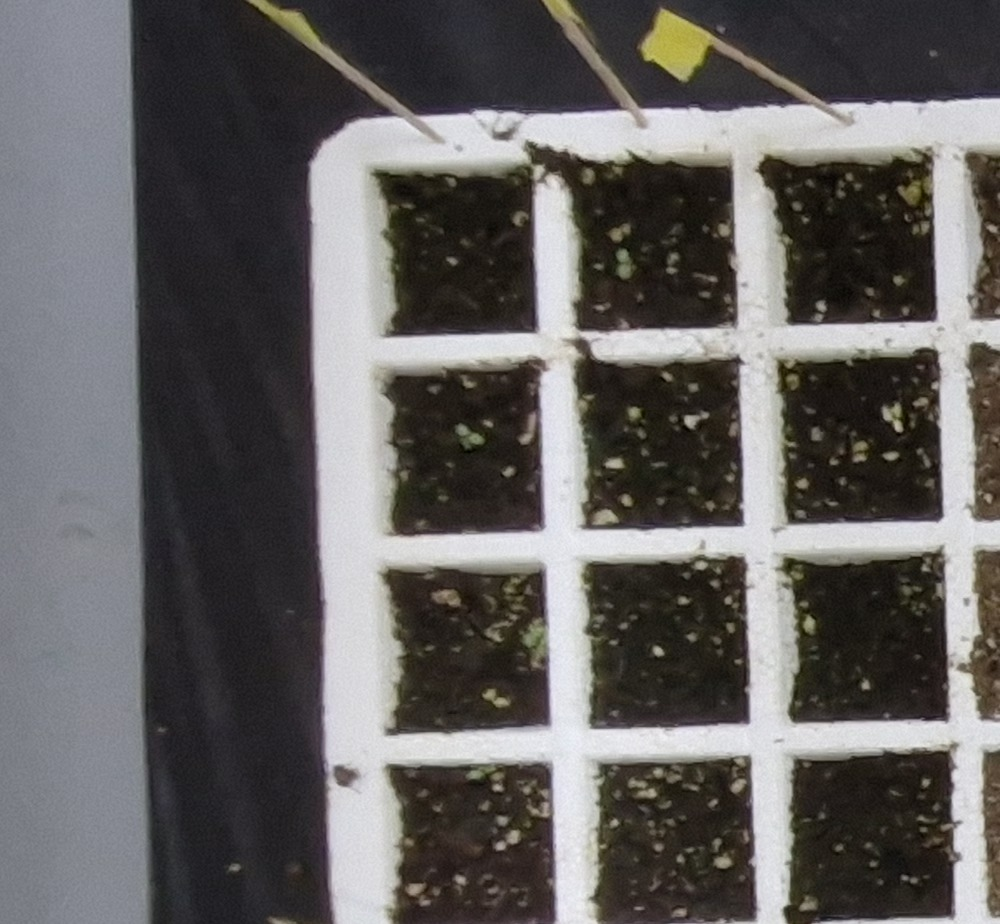Folha: (618, 264, 632, 279), (469, 433, 485, 444), (454, 423, 470, 434), (616, 249, 628, 261)
Germinacao: (454, 424, 487, 444), (614, 249, 633, 279)
